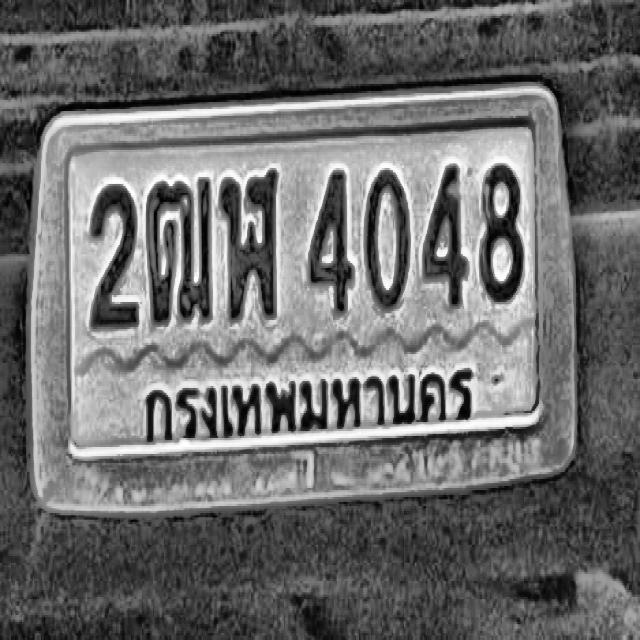license-plate: (20, 72, 589, 524)
